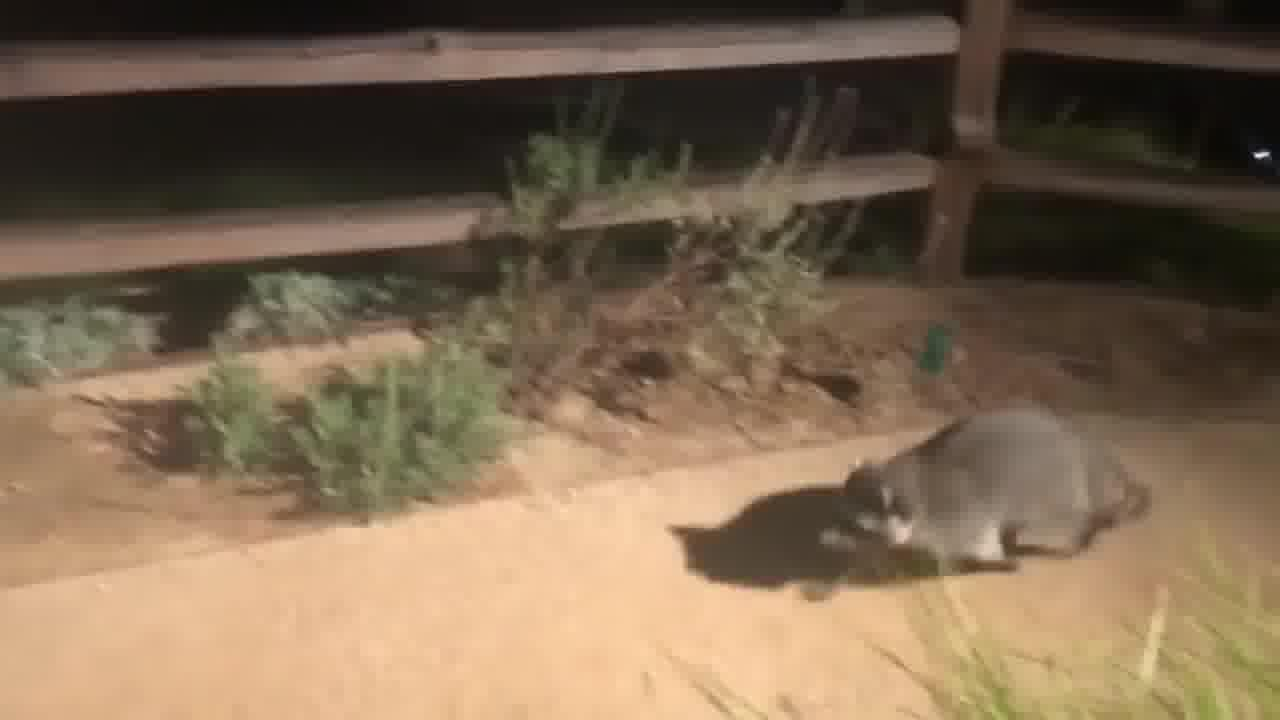raccoon: (796, 400, 1149, 598)
